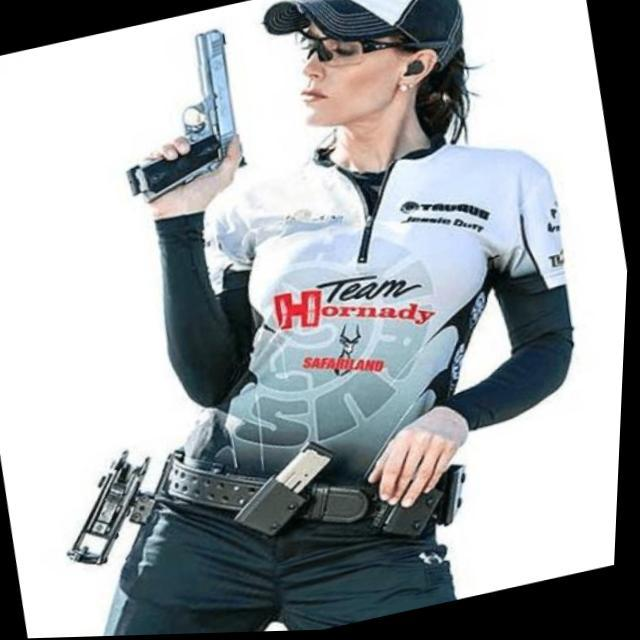weapon: (100, 27, 254, 210)
